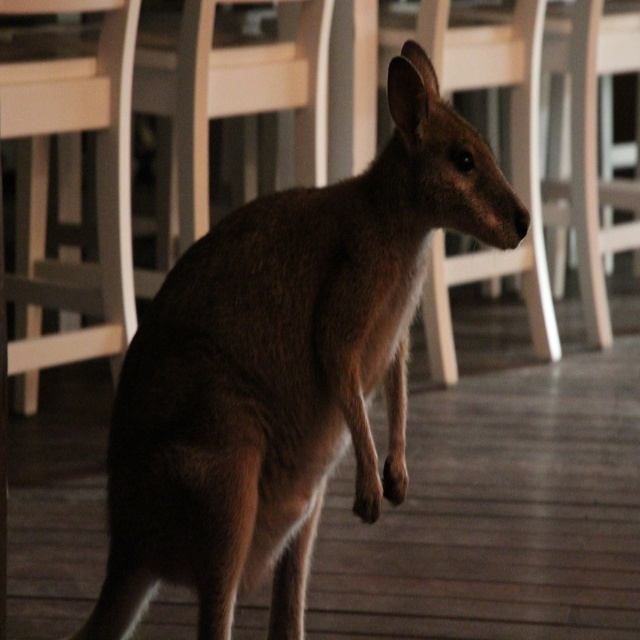Kangaroo: (70, 39, 534, 639)
